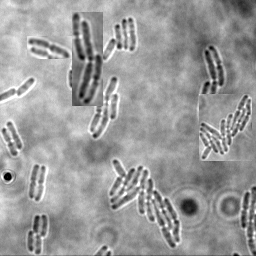Dividing: (27, 36, 72, 59), (1, 128, 18, 157), (34, 166, 47, 202), (28, 164, 39, 200), (239, 192, 249, 229)
Microcolony: (109, 158, 180, 249), (199, 94, 252, 161), (72, 12, 103, 106), (88, 76, 119, 139), (103, 18, 136, 61), (199, 45, 224, 94), (27, 214, 48, 255)
Rod: (5, 121, 23, 150), (16, 78, 34, 99)
